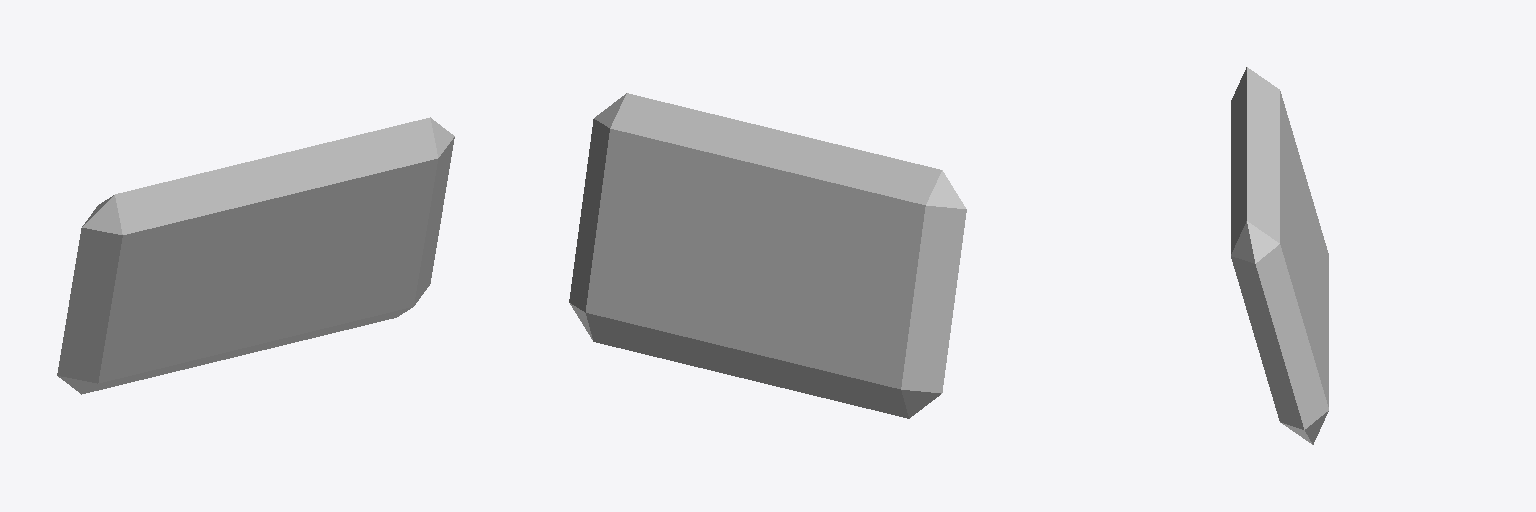
File: pillowLong.obj
The picture shows the model from 3 angles: view 1: azimuth 30°, elevation 25°; view 2: azimuth 150°, elevation 25°; view 3: azimuth 270°, elevation 25°; orthographic projection.
Visible parts, largest first — view 1: pillowLong; view 2: pillowLong; view 3: pillowLong.
Boxes of the visible parts, x1,y1,x2,y2 form: pillowLong: [57, 117, 454, 394]; pillowLong: [569, 93, 966, 418]; pillowLong: [1231, 67, 1328, 444].
Bounding box in the file's own units: 0.3866 × 0.2222 × 0.0885.